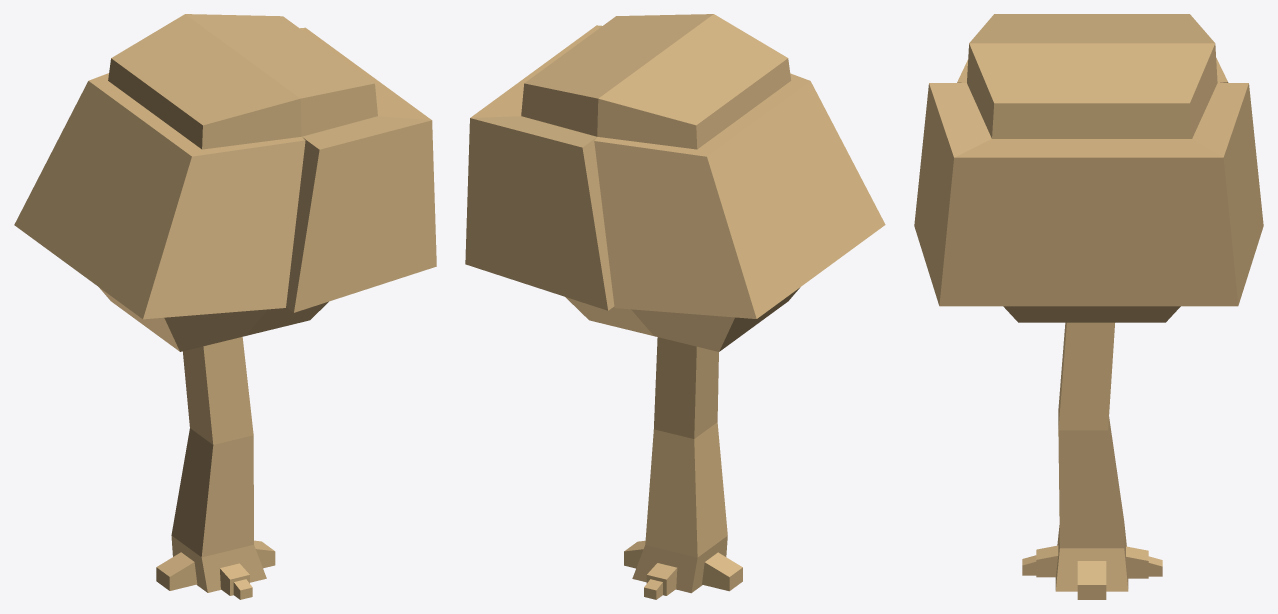
File: Mega_Asset_s_Pack_Cube_169.FBX
3 renders of one model, left to right at view 1: azimuth 30°, elevation 25°; view 2: azimuth 150°, elevation 25°; view 3: azimuth 270°, elevation 25°, orthographic. The views are drawn at different scales.
Parts seen in each view (by area): view 1: Mega_Asset_s_Pack_Cube_169; view 2: Mega_Asset_s_Pack_Cube_169; view 3: Mega_Asset_s_Pack_Cube_169.
Part boxes in pixels (bbox=[...]): Mega_Asset_s_Pack_Cube_169: bbox=[14, 14, 436, 599]; Mega_Asset_s_Pack_Cube_169: bbox=[465, 14, 885, 599]; Mega_Asset_s_Pack_Cube_169: bbox=[914, 14, 1263, 599].
Size of what is drawn, in the model's own units: 480 by 472 by 811.
